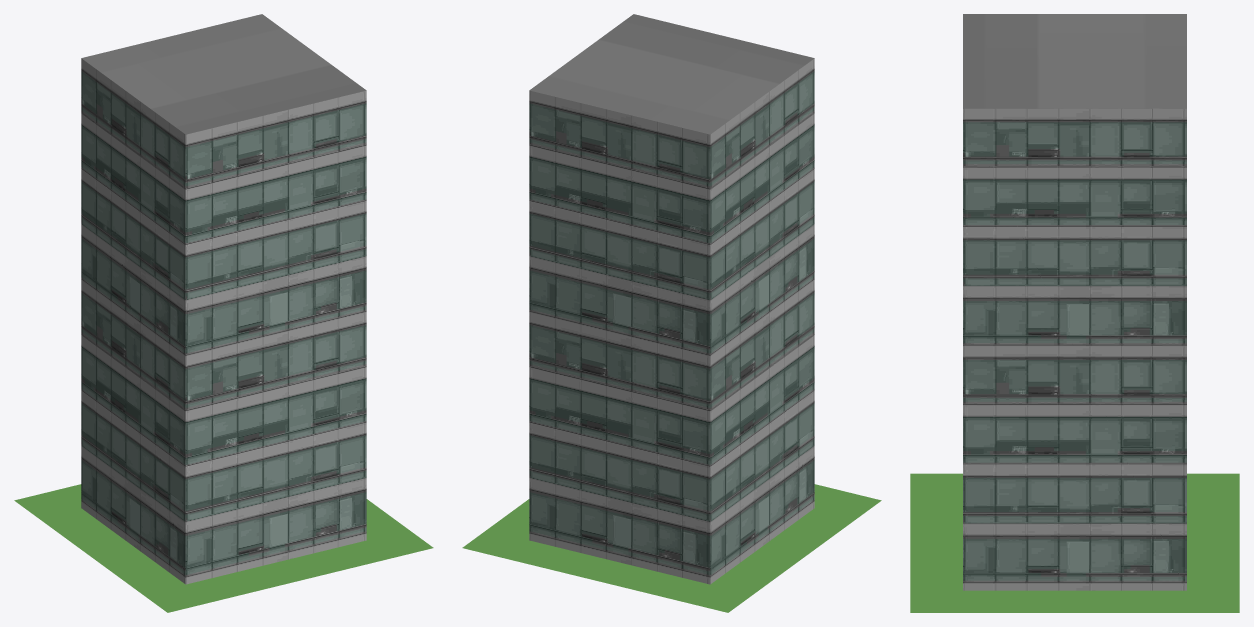
Rendered from Bilding.001.gltf.
3 views of the same model, side by side, from view 1: azimuth 30°, elevation 25°; view 2: azimuth 150°, elevation 25°; view 3: azimuth 270°, elevation 25° (orthographic). The views are drawn at different scales.
Parts seen in each view (by area): view 1: Building.001, Plane.001; view 2: Building.001, Plane.001; view 3: Building.001, Plane.001.
Boxes of the visible parts, x1,y1,x2,y2 form: Building.001: [81, 14, 366, 584]; Plane.001: [14, 484, 433, 612]; Building.001: [529, 14, 814, 584]; Plane.001: [462, 484, 881, 612]; Building.001: [963, 14, 1186, 590]; Plane.001: [910, 473, 1239, 612].
Size of the model in its own units: 10.5 by 16.96 by 10.5.
Materials: 2 (1 with a texture image).
